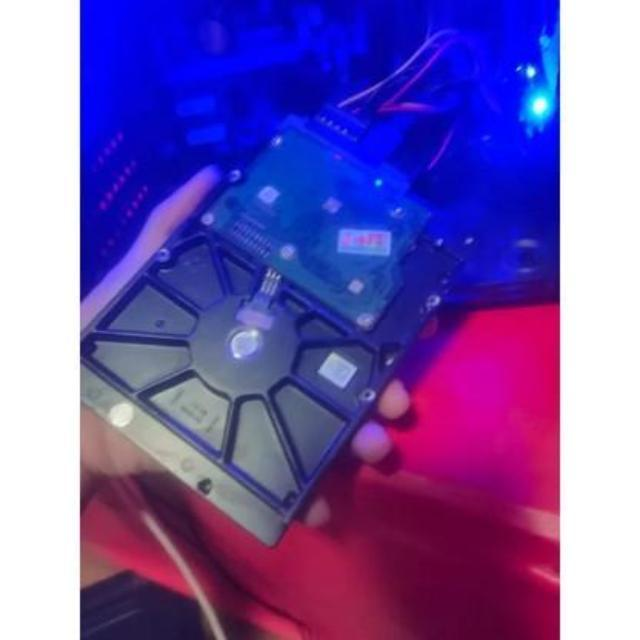DISK: (82, 109, 480, 551)
